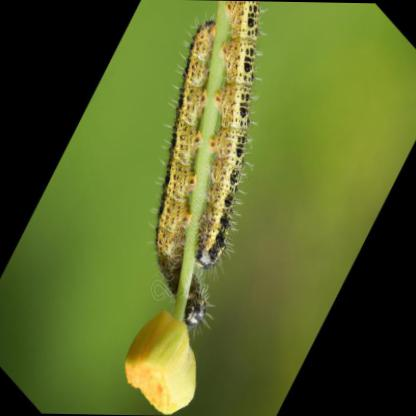pieris: (190, 1, 260, 271), (151, 20, 214, 290)
